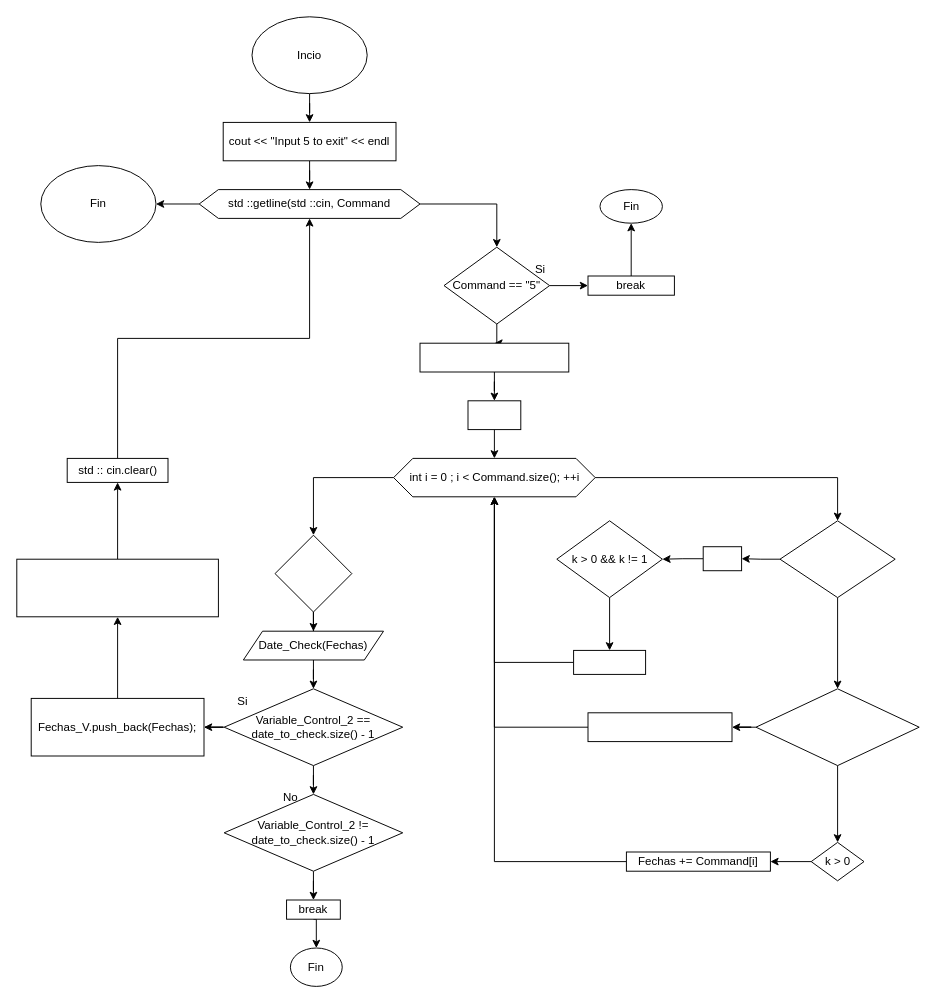
This 936x1003 diagram has some shape labels left out. The shapes that lost their labels are listed below. From the top down, each one's centre as x and y in pixels, then its label:
point (494, 357): string Comando, Fechas
point (494, 415): int k = 0
point (313, 573): Fechas != ""
point (722, 558): k +=1
point (837, 559): Command[i] == ' '
point (117, 587): Comandos_V.push_back(Comando)
point (609, 661): Fechas += ' '
point (659, 727): Comando += Command[i]
point (837, 727): Command[i] != ' ' && k == 0
